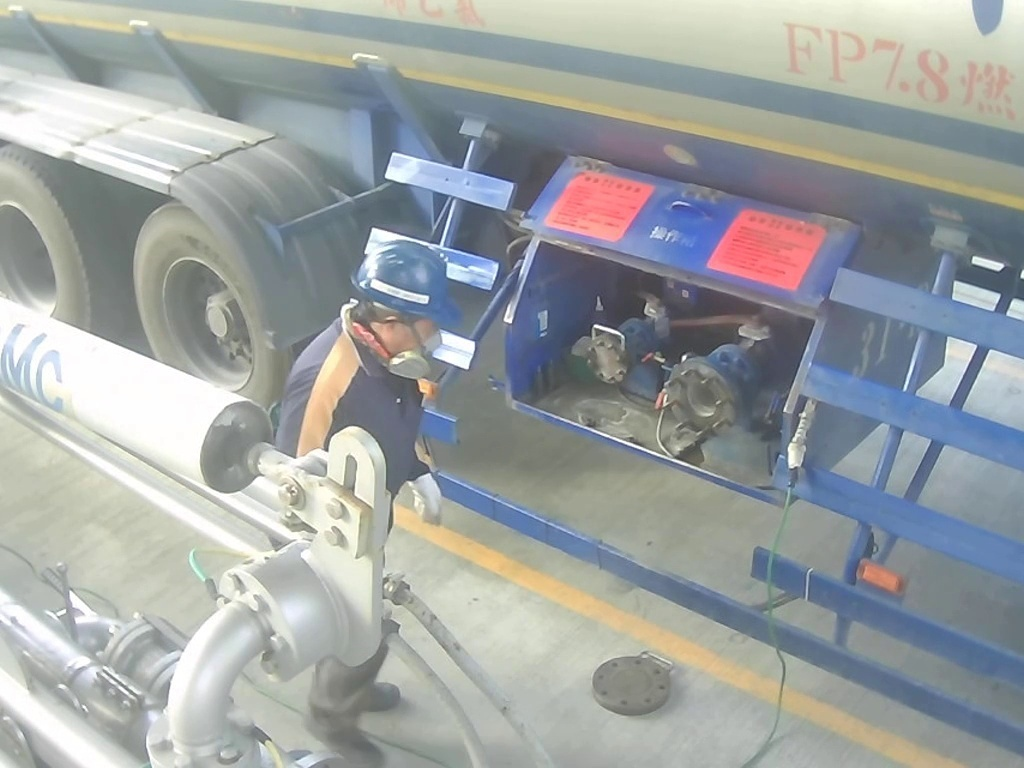helmet: (340, 231, 469, 374)
mask: (386, 338, 443, 375)
person: (246, 229, 484, 747)
